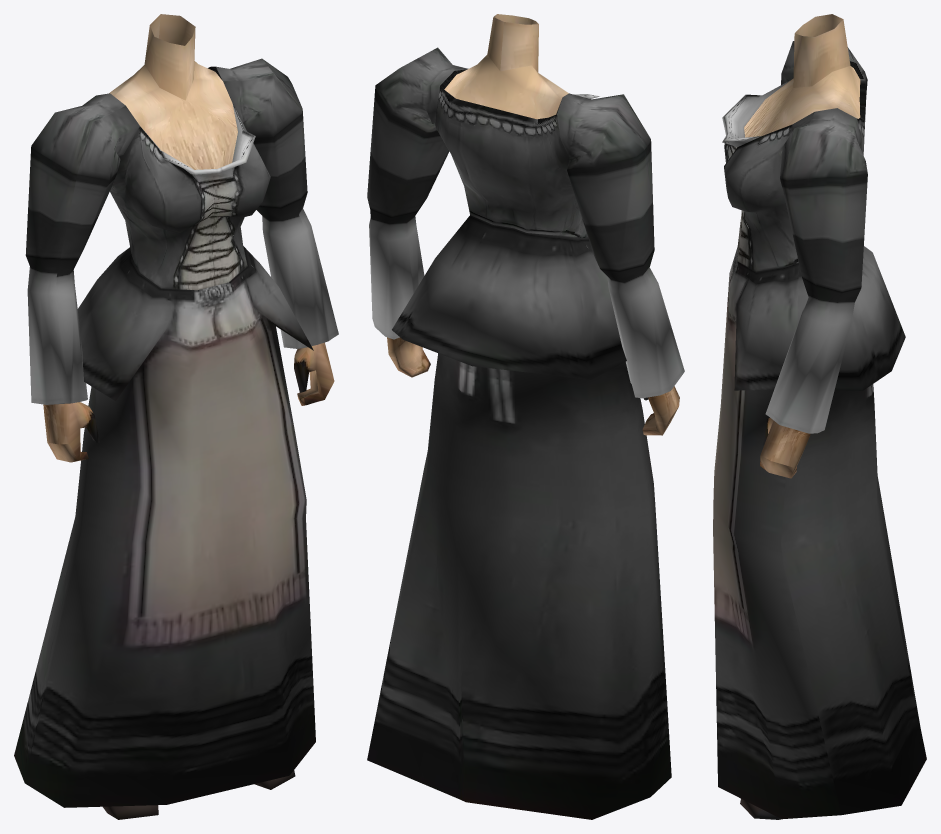
File: ARMOR_BAUBABE_L5.glb
The picture shows the model from 3 angles, left to right: view 1: azimuth 30°, elevation 25°; view 2: azimuth 150°, elevation 25°; view 3: azimuth 270°, elevation 25°; orthographic projection.
Parts seen in each view (by area): view 1: ARMOR_BAUBABE_L5; view 2: ARMOR_BAUBABE_L5; view 3: ARMOR_BAUBABE_L5.
Boxes of the visible parts, <box> form: ARMOR_BAUBABE_L5: <box>14,14,338,819</box>; ARMOR_BAUBABE_L5: <box>367,14,684,819</box>; ARMOR_BAUBABE_L5: <box>713,14,926,819</box>.
Size of the model in its own units: 0.6832 by 1.68 by 0.4292.
2 materials, 2 textured.
